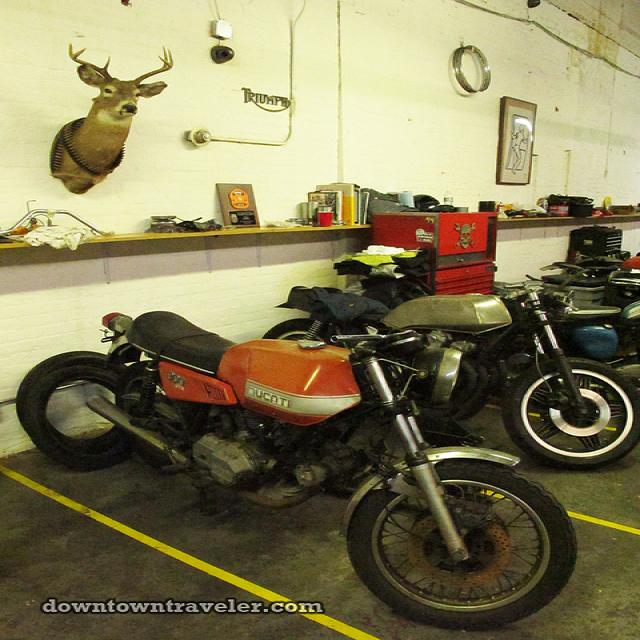motor: (81, 320, 579, 633), (261, 257, 640, 469)
